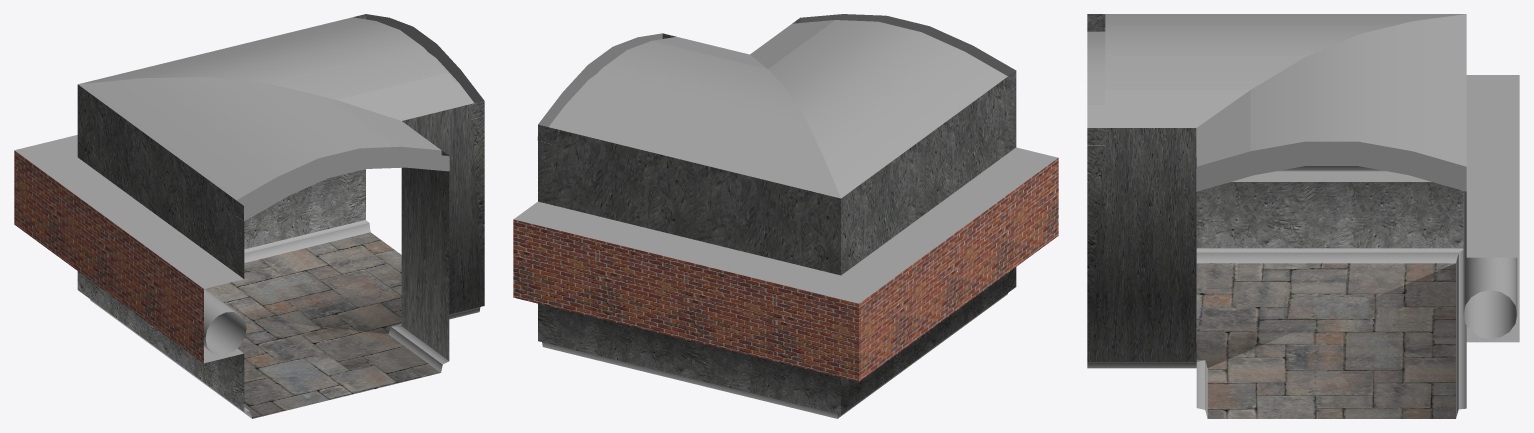
The model's file is korob05.fbx.
The picture shows the model from 3 angles, left to right: view 1: azimuth 30°, elevation 25°; view 2: azimuth 150°, elevation 25°; view 3: azimuth 270°, elevation 25°; orthographic projection. The views are drawn at different scales.
Parts seen in each view (by area): view 1: polySurface22; view 2: polySurface22; view 3: polySurface22.
Part boxes in pixels (x1,y1,x2,y2): polySurface22: [14, 14, 484, 418]; polySurface22: [513, 14, 1058, 418]; polySurface22: [1087, 14, 1519, 418].
Size of the model in its own units: 16 by 11.02 by 16.
